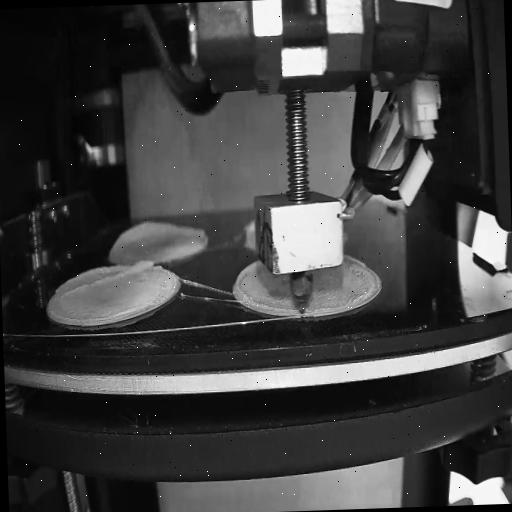over_extrusion: (58, 258, 154, 300), (108, 214, 207, 248), (234, 258, 262, 310), (344, 251, 367, 268)
